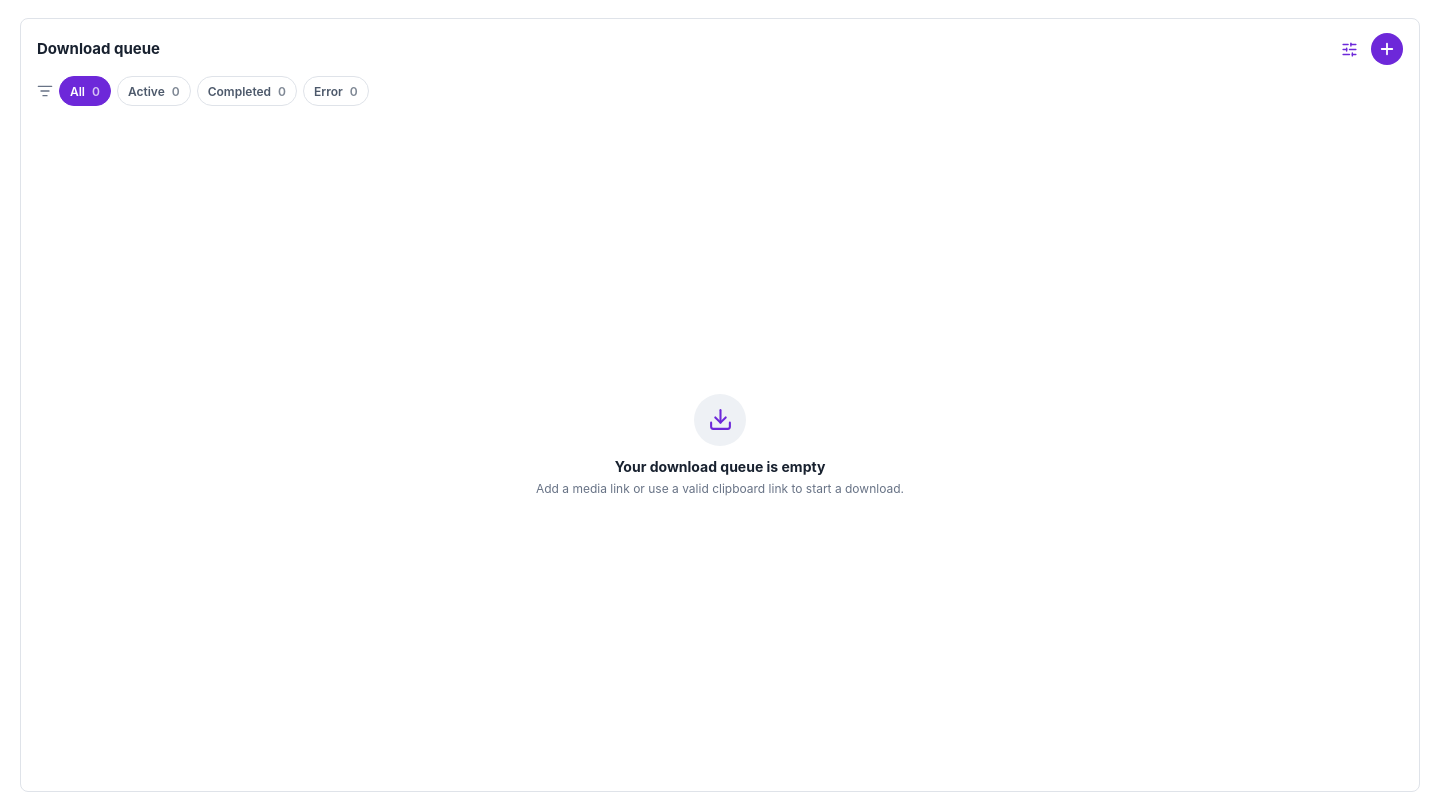
Test: Vetch application contract › opens clipboard downloads in the options dialog when one-click is disabled
Step 1. Click the button named "Configure clipboard download" → (1349, 49), box [1333,33,1365,65]
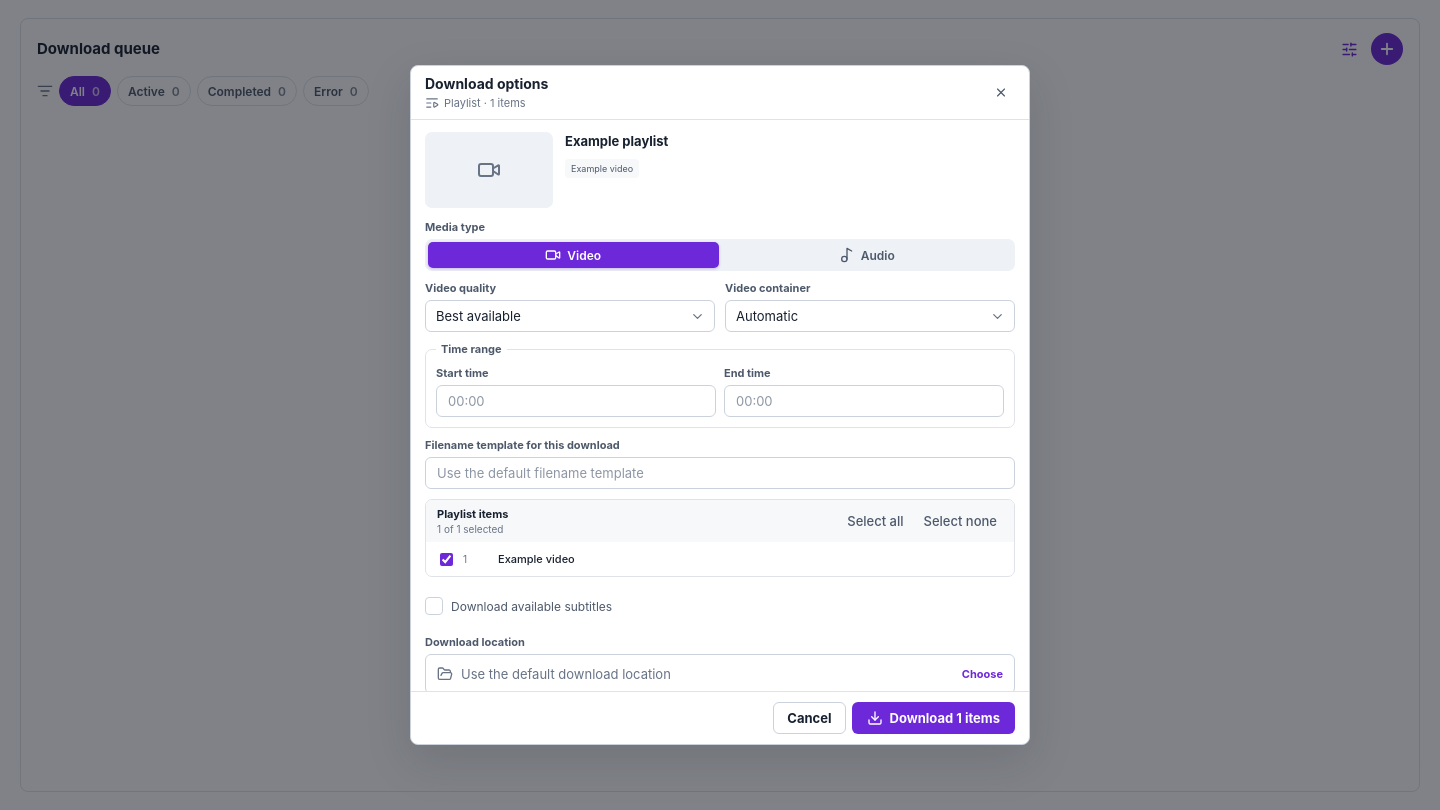
Expected: the heading "Download options" is shown, [425,75,548,92]
